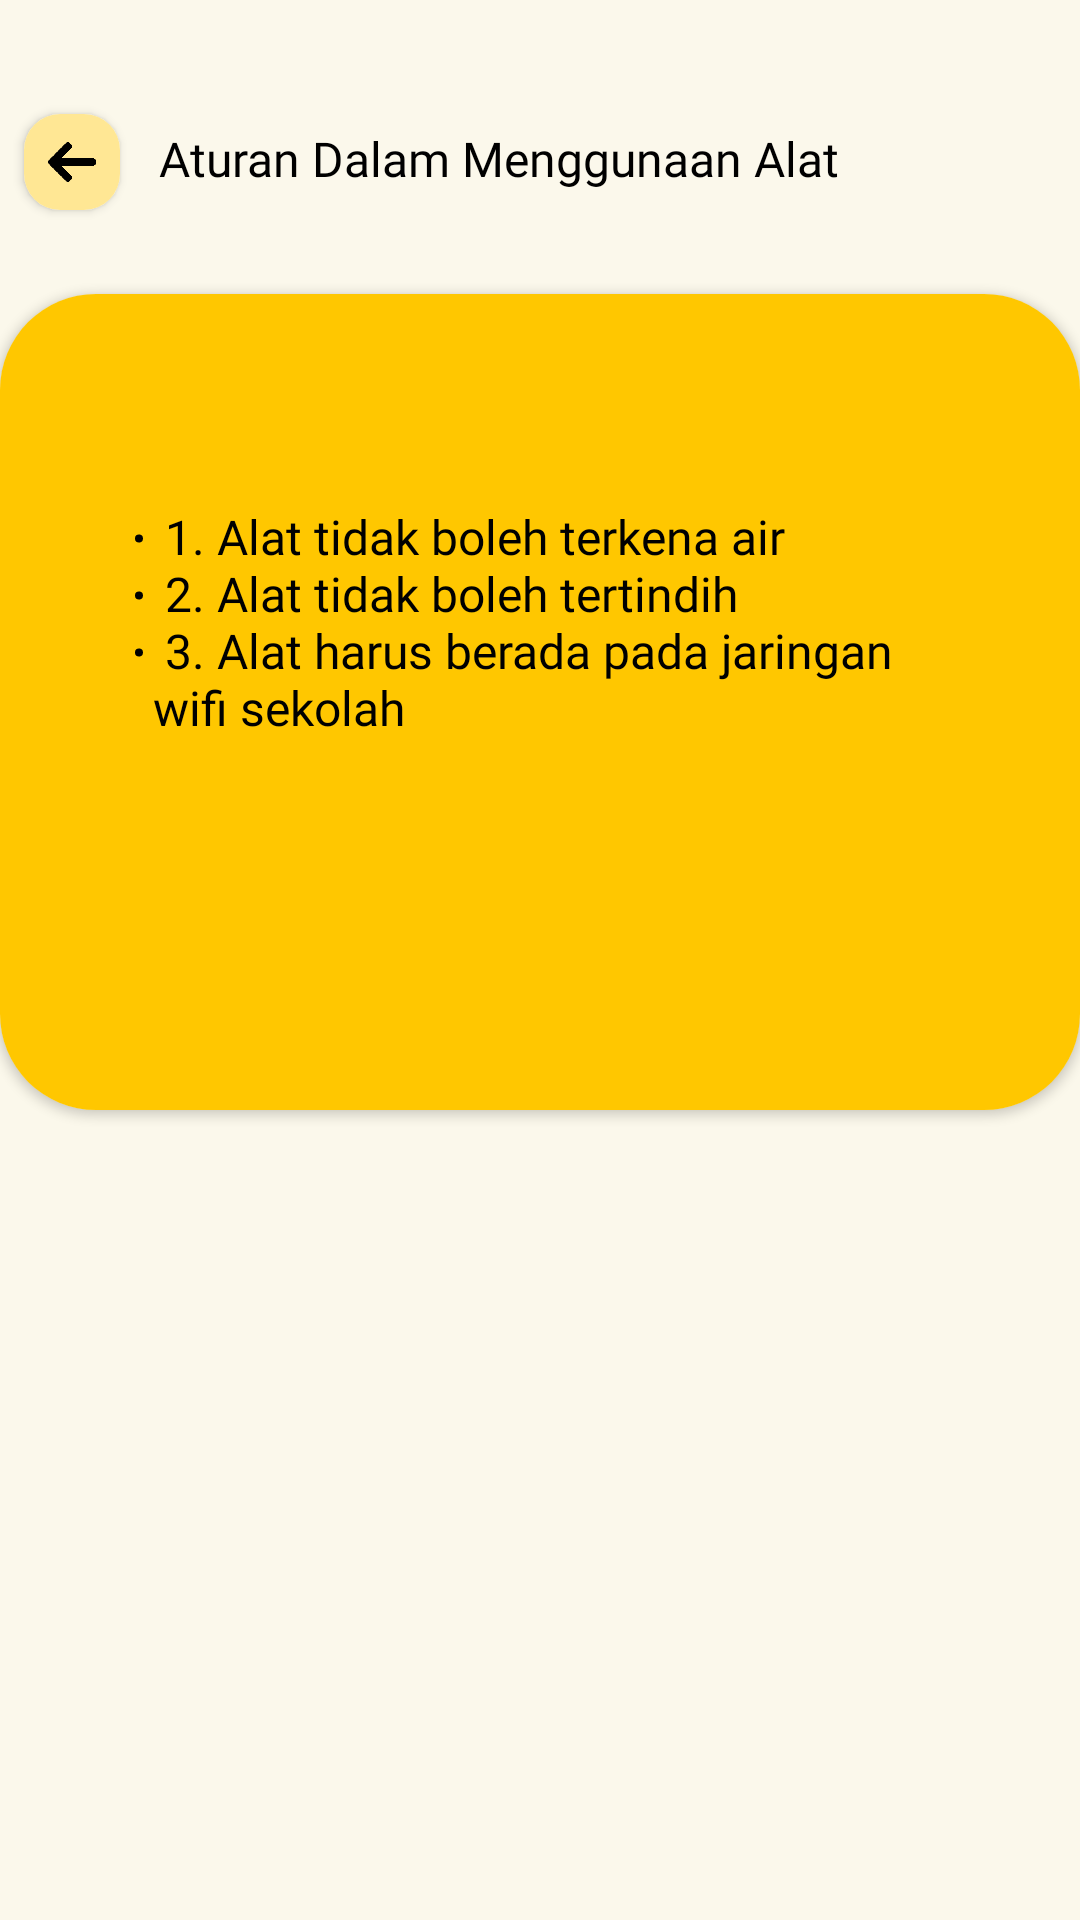

Named icons in this screenshot (1080*1920) and their bounding boxes, Rect(x1, y1, x2, y2):
arrow: Rect(48, 142, 96, 182)
